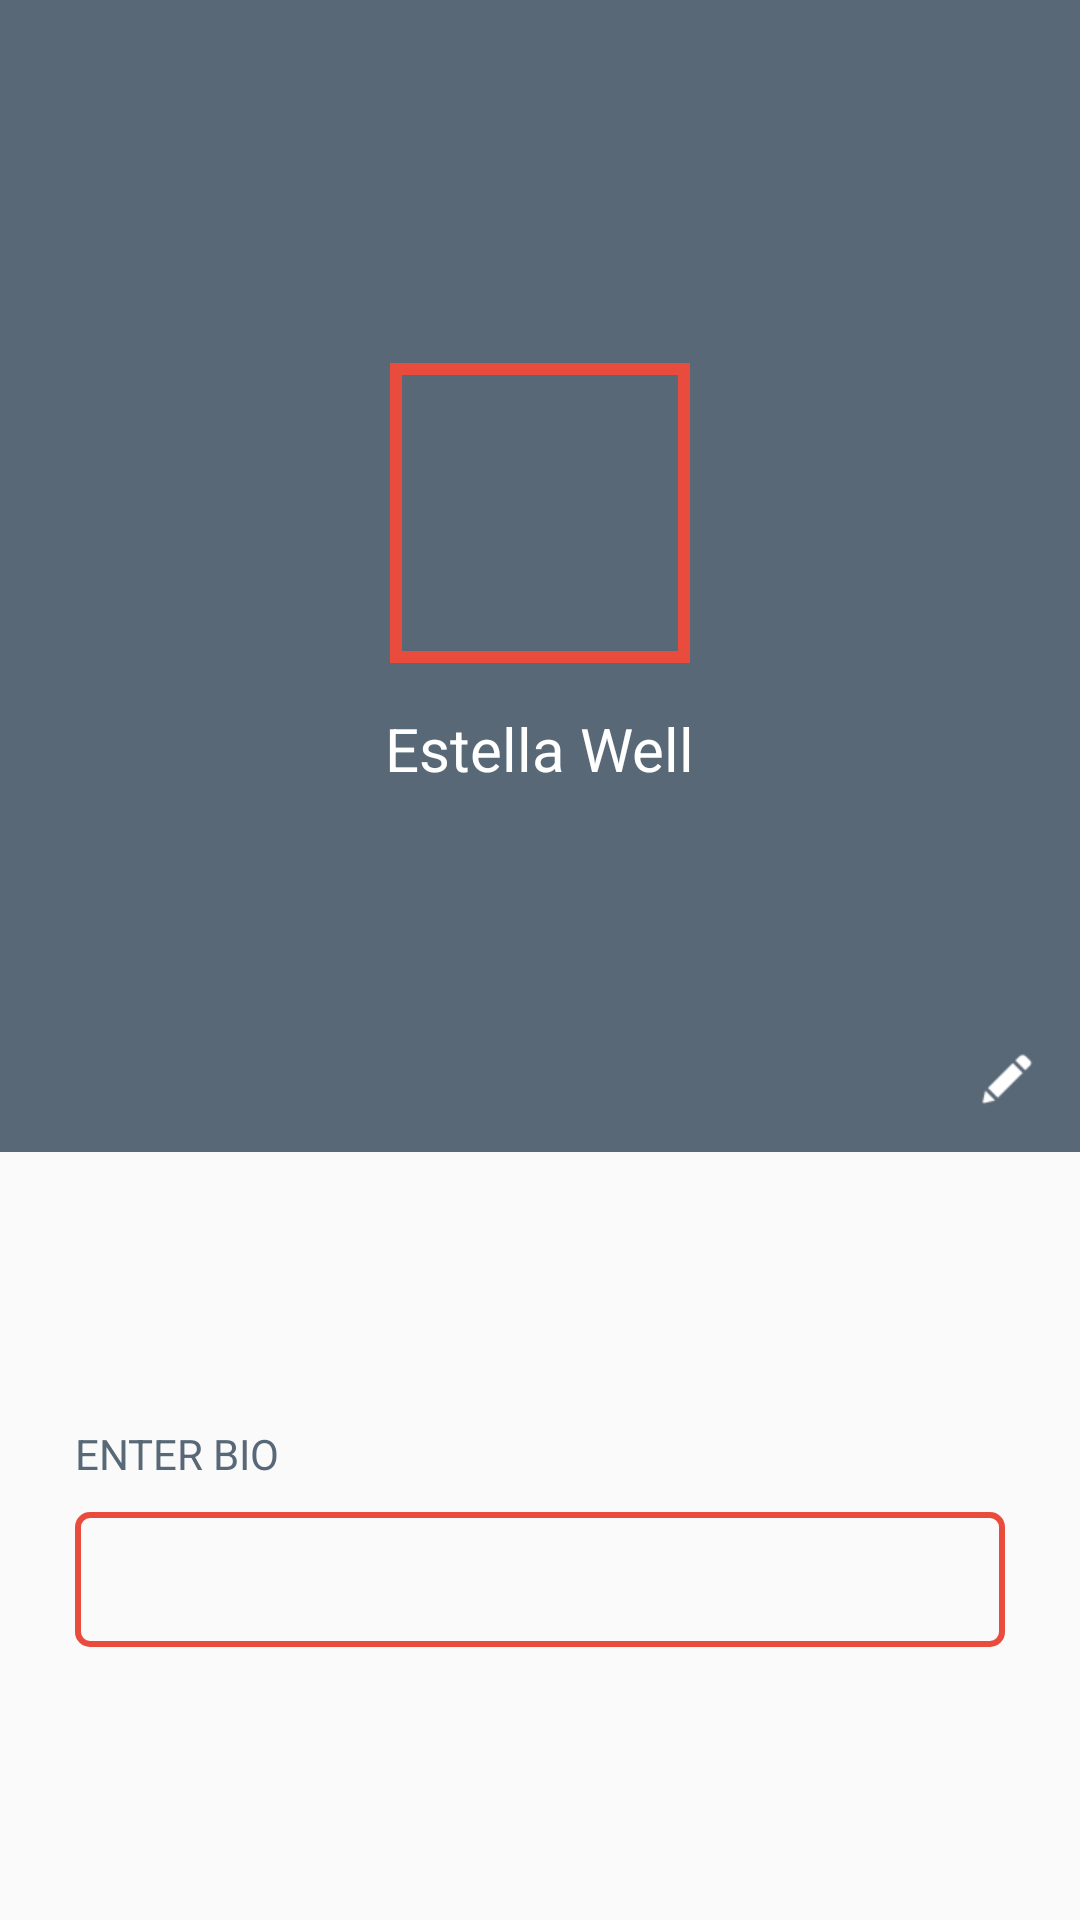

Named icons in this screenshot (1080w x 1920h) and their centers, (x=x, y=y):
edit profile: (x=1007, y=1079)
